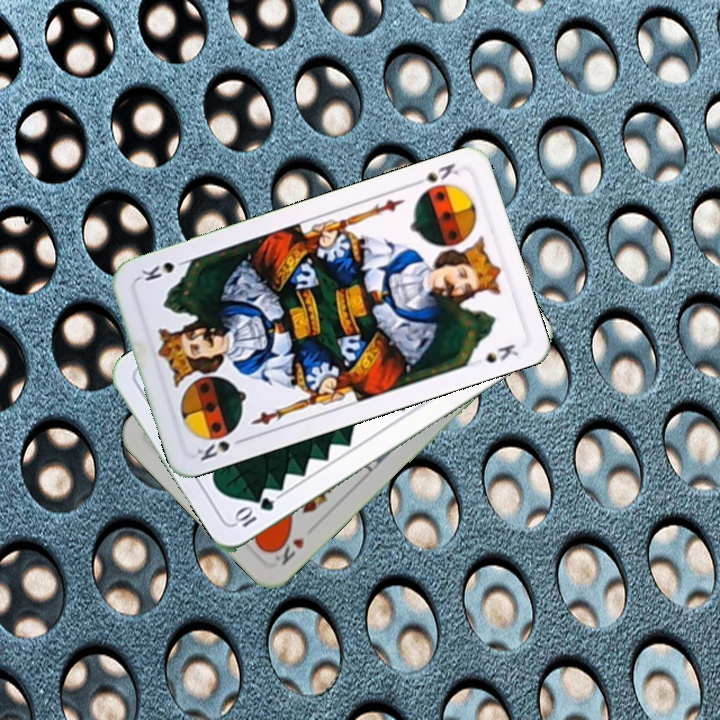G10: (230, 493, 277, 530)
HK: (265, 530, 307, 568)
SK: (192, 434, 249, 464), (407, 159, 461, 189)
